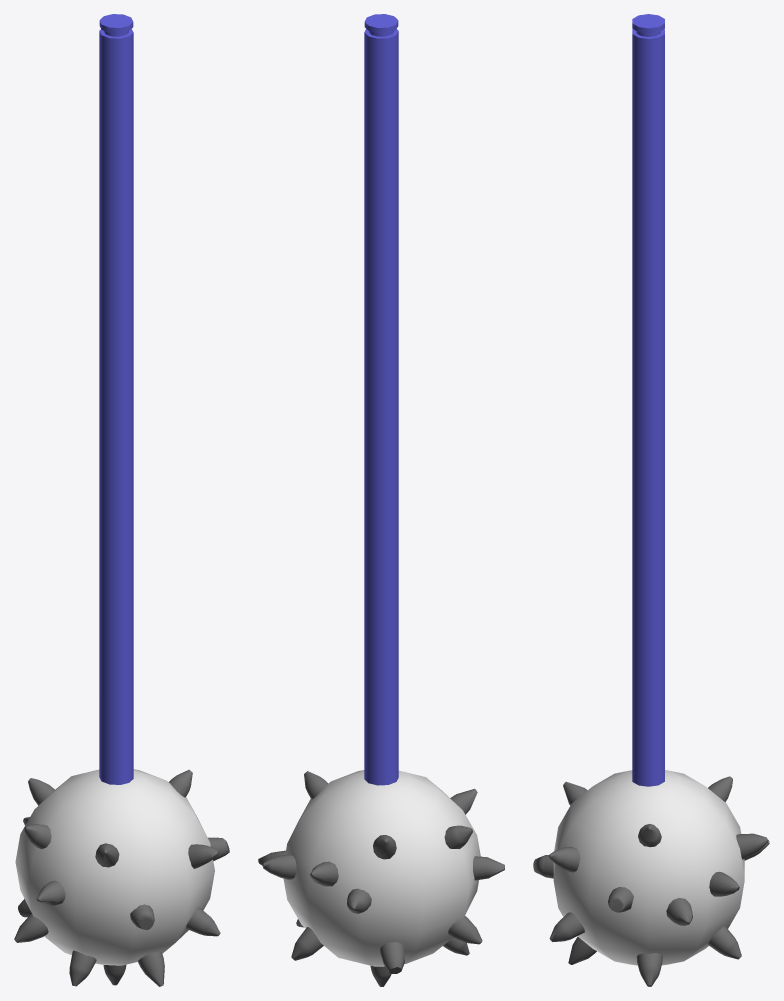
The model's file is Mace.fbx.
The picture shows the model from 3 angles, left to right: view 1: azimuth 30°, elevation 25°; view 2: azimuth 150°, elevation 25°; view 3: azimuth 270°, elevation 25°; orthographic projection.
Visible parts, largest first — view 1: Mace; view 2: Mace; view 3: Mace.
Boxes of the visible parts, x1,y1,x2,y2 form: Mace: (14,14,229,986); Mace: (258,14,504,986); Mace: (533,14,769,986).
Size of the model in its own units: 7.43 by 33.41 by 7.41.
